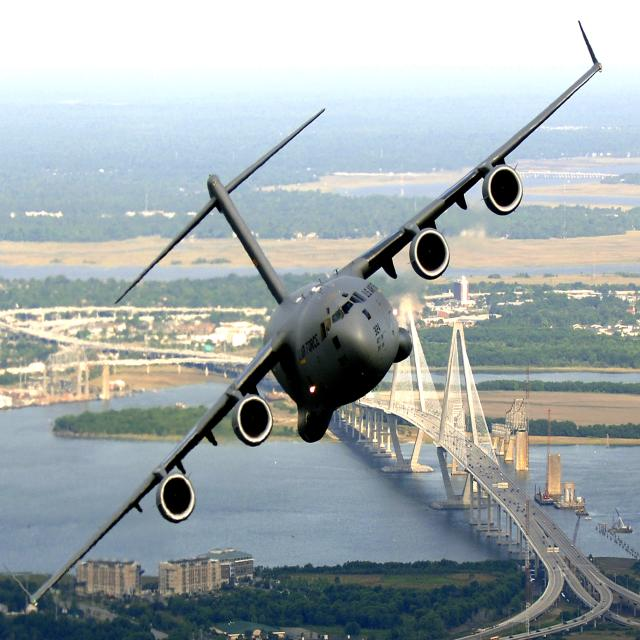MIL_Plane: (0, 20, 564, 605)
